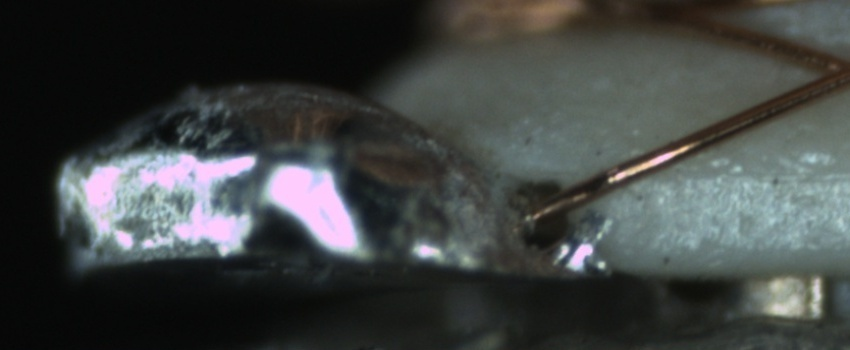CL: (795, 42, 850, 100)
DL: (673, 141, 849, 203)
